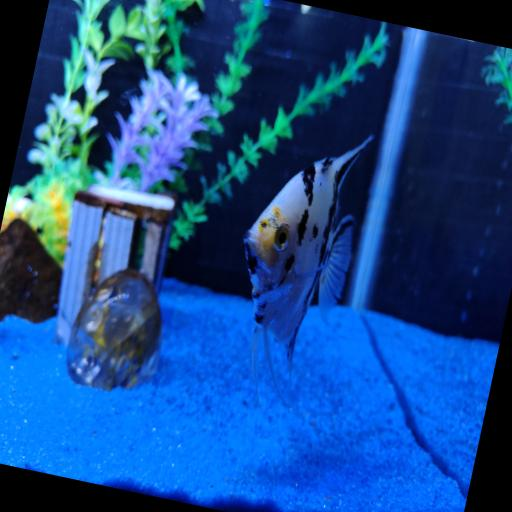Fish: (243, 136, 372, 404)
